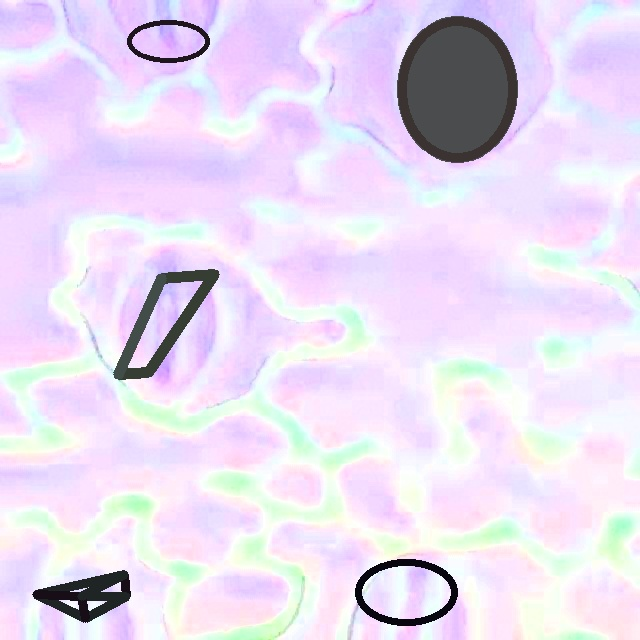open: (397, 16, 516, 162), (113, 273, 218, 376), (354, 558, 458, 626), (33, 571, 129, 622), (125, 18, 210, 63)
